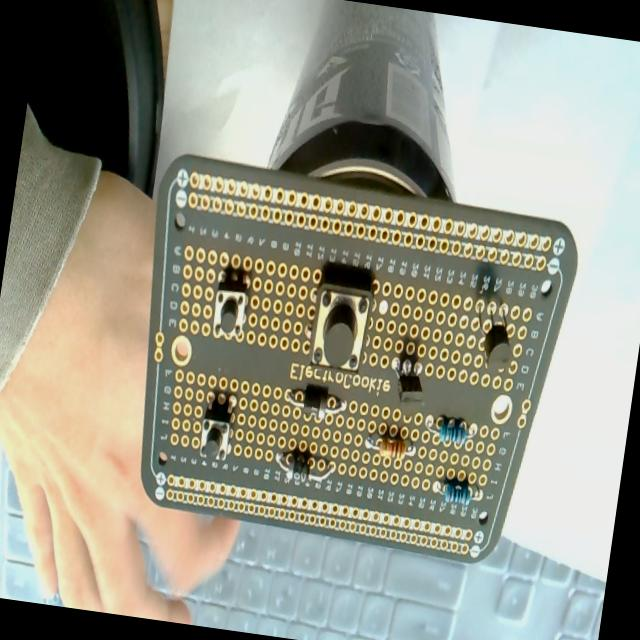diode: (272, 448, 336, 489), (282, 384, 348, 423)
resistor: (363, 424, 416, 464), (438, 417, 468, 448), (443, 478, 473, 508)
switch: (306, 273, 375, 378), (210, 268, 253, 343), (198, 394, 238, 464)
transistor: (472, 298, 519, 377), (390, 348, 430, 410)
